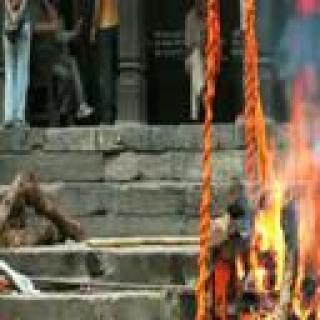fire: (259, 93, 320, 320)
